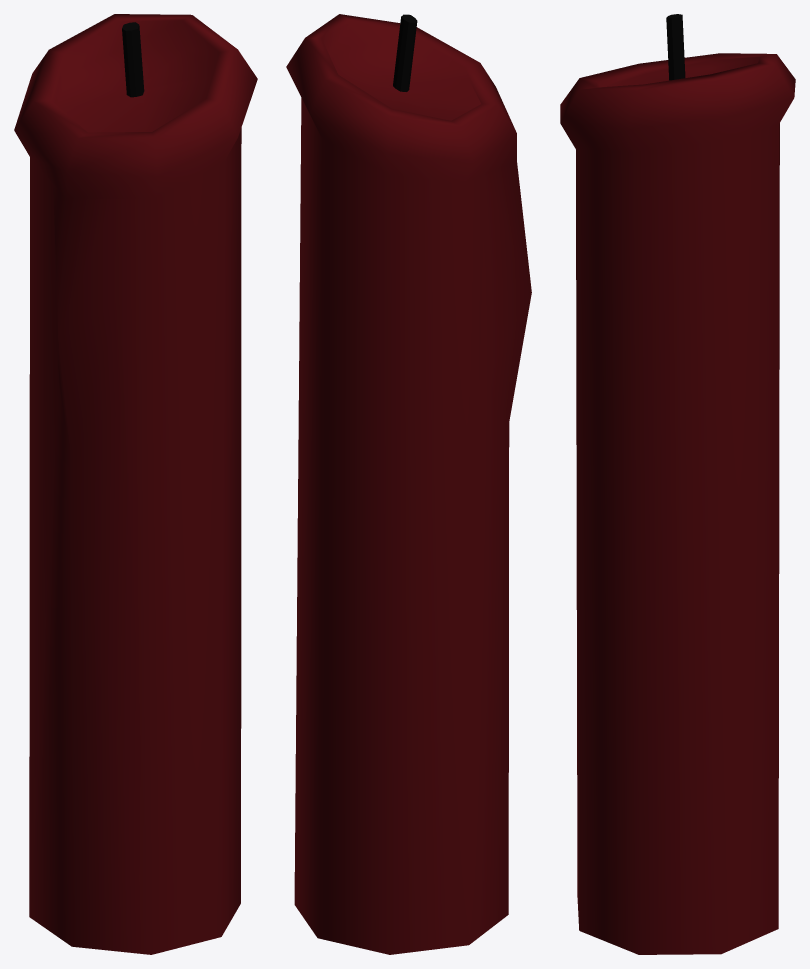
Rendered from Candle_Short.fbx.
The picture shows the model from 3 angles, left to right: view 1: azimuth 30°, elevation 25°; view 2: azimuth 150°, elevation 25°; view 3: azimuth 270°, elevation 25°; orthographic projection.
Parts seen in each view (by area): view 1: pCylinder46; view 2: pCylinder46; view 3: pCylinder46.
Part boxes in pixels (left/top/right/bottom): pCylinder46: left=14, top=14, right=257, bottom=954; pCylinder46: left=286, top=14, right=531, bottom=954; pCylinder46: left=560, top=14, right=795, bottom=954.
Bounding box in the file's own units: 1.82 × 7.67 × 1.83.
